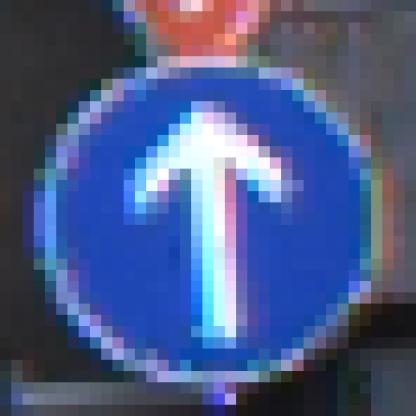AheadOnly: (57, 57, 361, 361)
